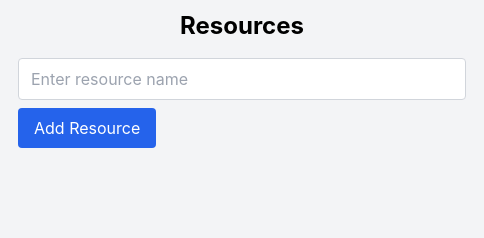
Test: Resources Page › adds a resource, clears the field and appends it to the list
Type "New one" into the field with placeholder "Enter resource name" at x=242, y=79, box x1=18 y1=58 x2=466 y2=100
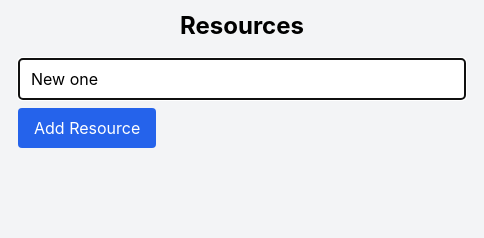
Click the button "Add Resource" at x=87, y=128, box x1=18 y1=108 x2=156 y2=148
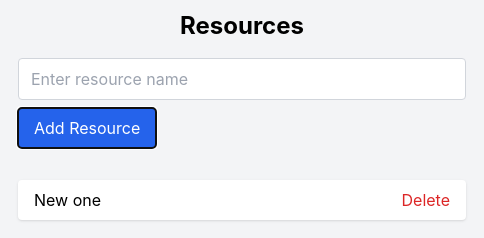
Result: the list item "New one" is shown at x1=34 y1=190 x2=101 y2=210
Result: the field with placeholder "Enter resource name" is empty at x1=18 y1=58 x2=466 y2=100
